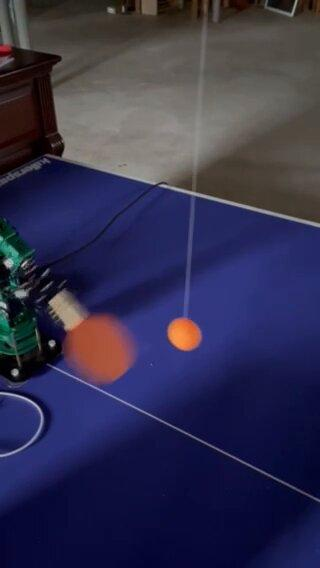oball: (166, 316, 203, 350)
